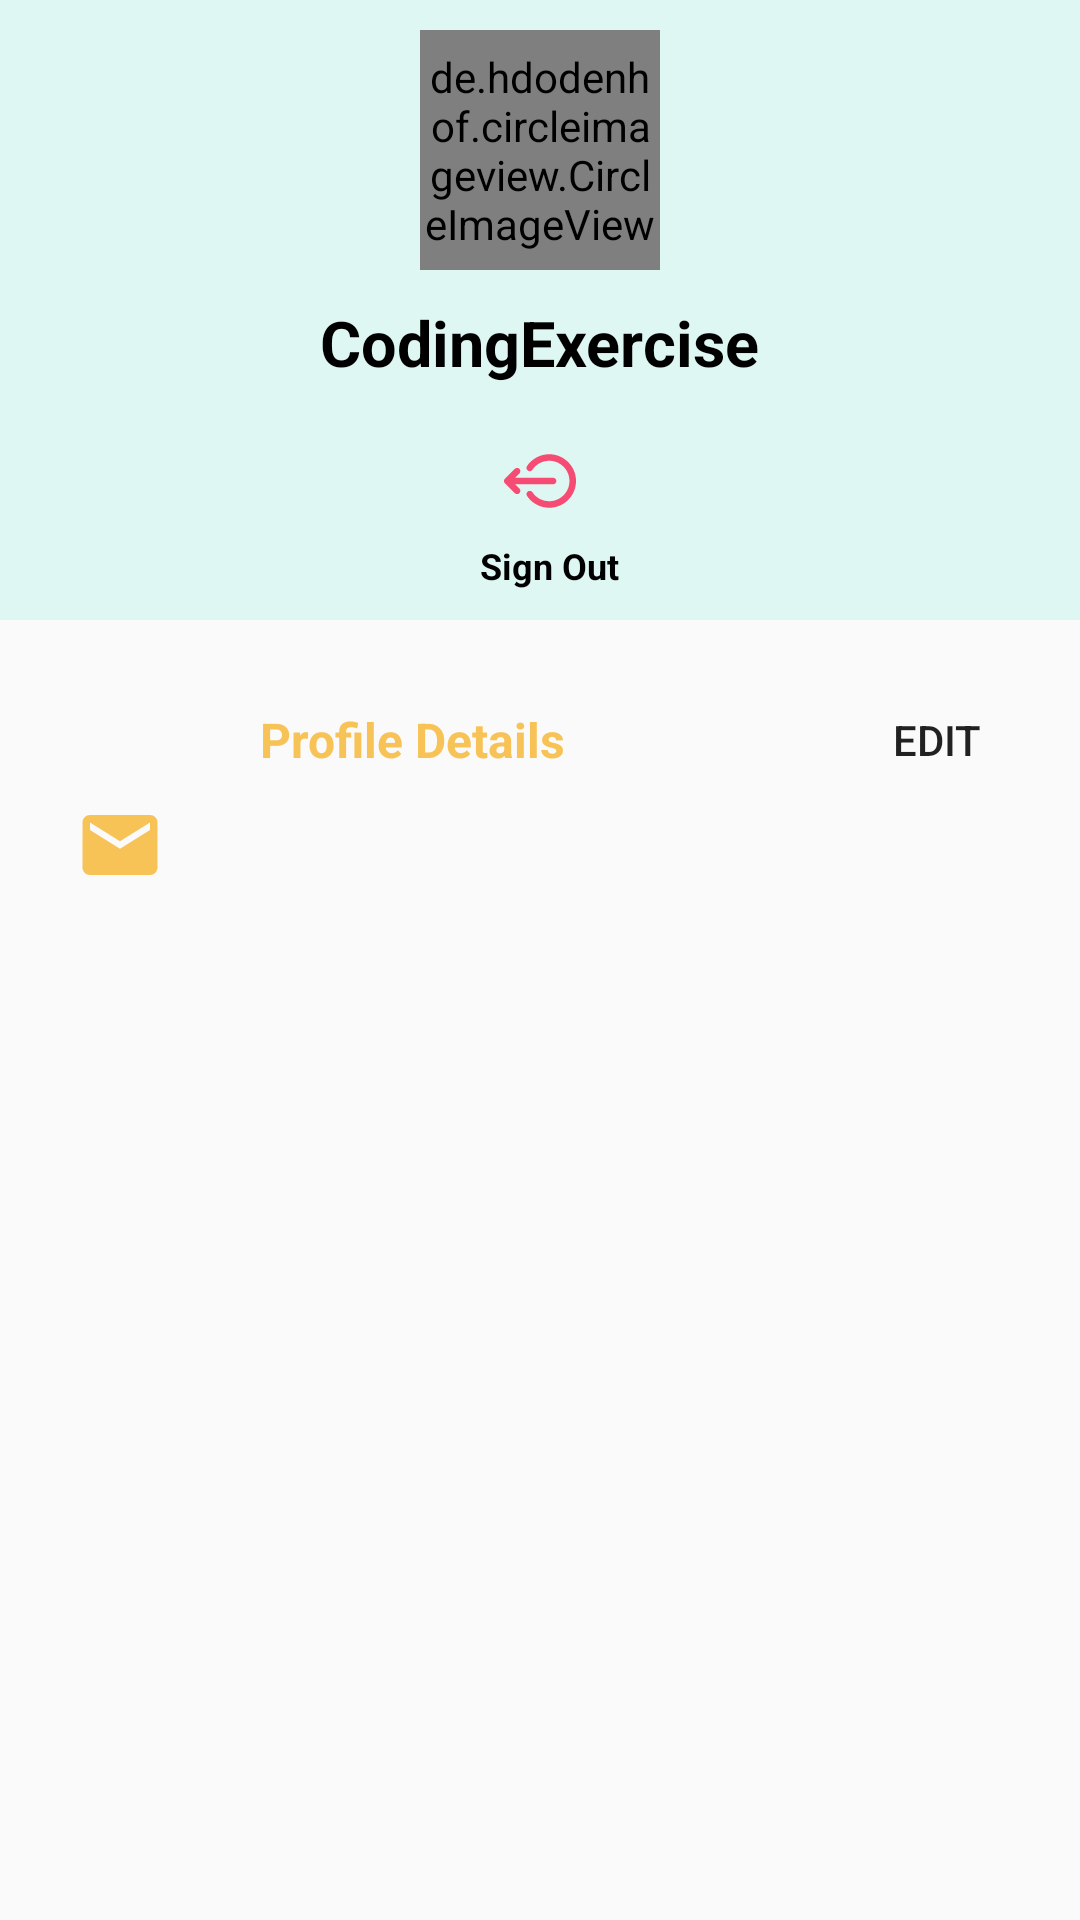

Named icons in this screenshot (1080w x 1920h) and their bounding boxes, (x1, y1, x2, y2):
email: (82, 815, 158, 875)
